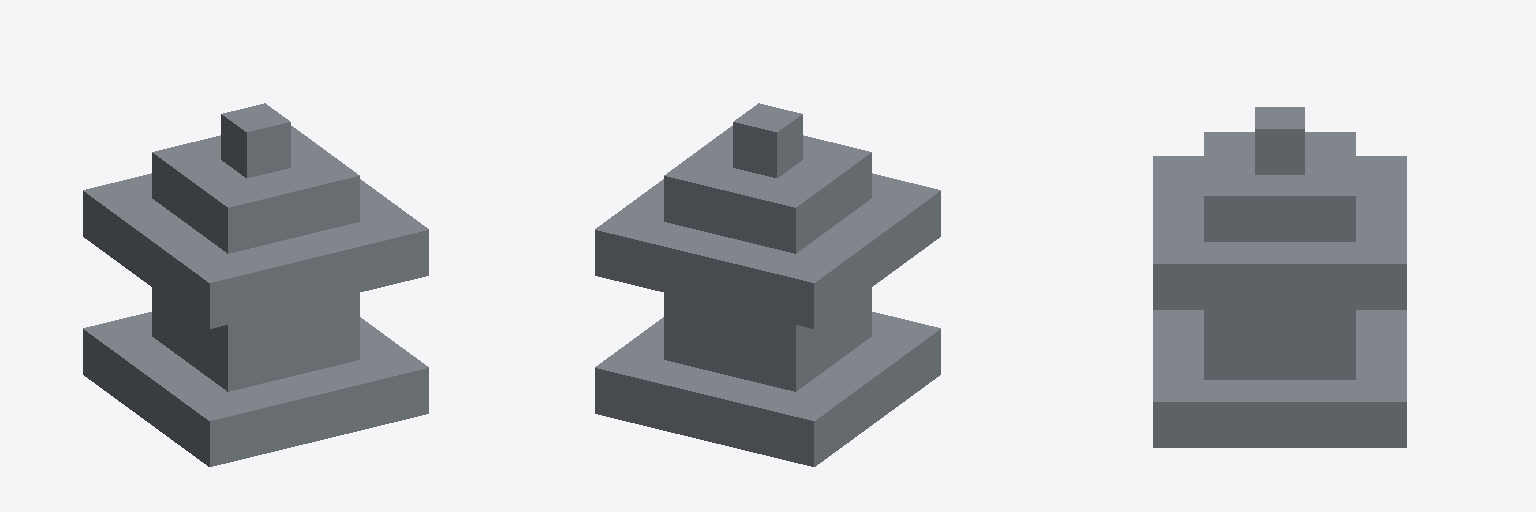
The picture shows the model from 3 angles: view 1: azimuth 30°, elevation 25°; view 2: azimuth 150°, elevation 25°; view 3: azimuth 270°, elevation 25°; orthographic projection.
Visible parts, largest first — view 1: Element #2, Element #1, Element #4, Element #3, Element #5; view 2: Element #2, Element #1, Element #4, Element #3, Element #5; view 3: Element #2, Element #1, Element #4, Element #3, Element #5.
Boxes of the visible parts, <box> form: Element #2: <box>83,173,428,328</box>; Element #1: <box>83,312,428,466</box>; Element #4: <box>152,126,359,253</box>; Element #3: <box>152,288,359,391</box>; Element #5: <box>221,103,290,177</box>; Element #2: <box>595,173,940,328</box>; Element #1: <box>595,312,940,466</box>; Element #4: <box>664,126,871,253</box>; Element #3: <box>664,288,871,391</box>; Element #5: <box>733,103,802,177</box>; Element #2: <box>1153,156,1406,309</box>; Element #1: <box>1153,310,1406,447</box>; Element #4: <box>1204,132,1355,241</box>; Element #3: <box>1204,310,1355,379</box>; Element #5: <box>1255,107,1304,174</box>.
Bounding box in the file's own units: 0.8 × 0.96 × 0.8.
1 materials, 1 textured.